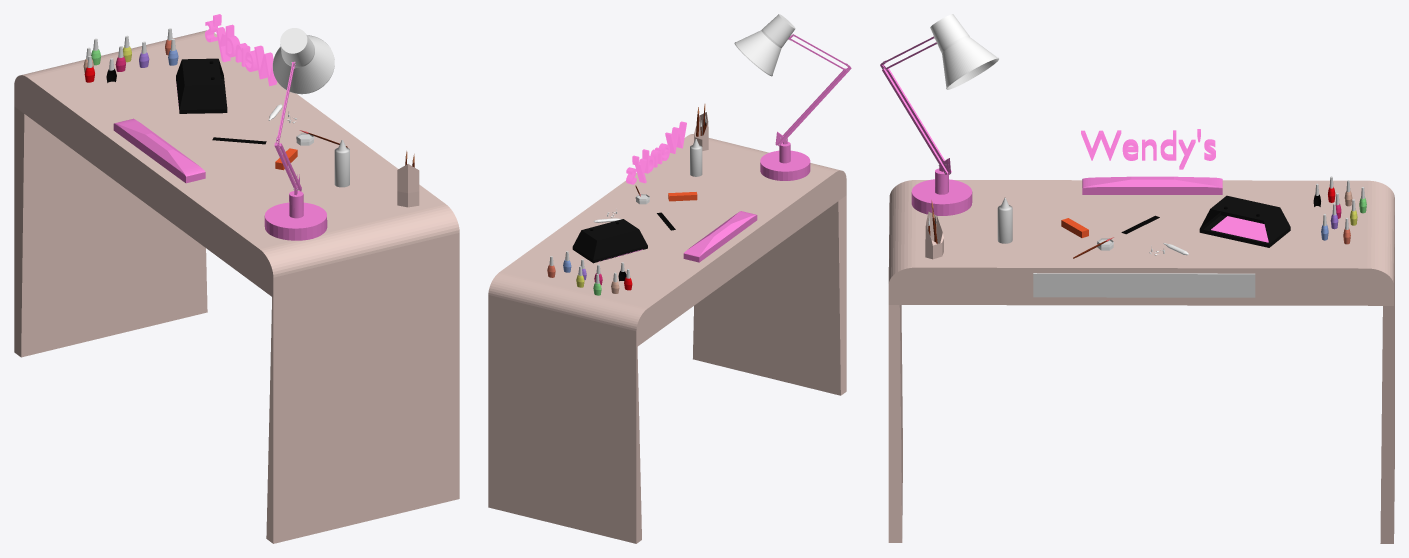
File: wendys.glb
3 renders of one model, left to right at view 1: azimuth 30°, elevation 25°; view 2: azimuth 150°, elevation 25°; view 3: azimuth 270°, elevation 25°, orthographic. The views are drawn at different scales.
Parts seen in each view (by area): view 1: table, Circle, Cube.017, Cube.013, Text, Cylinder, Cylinder.010, Cylinder.018; view 2: table, Cube.017, Circle, Cube.013, Text, Cylinder; view 3: table, Cube.016, Circle, Cube.013, Cube.017, Text, Cylinder, Cube.018, Cylinder.010, Cylinder.018.
Boxes of the visible parts, x1=… form: table: x1=14, y1=30, x2=459, y2=543; Circle: x1=272, y1=28, x2=334, y2=94; Cube.017: x1=176, y1=58, x2=227, y2=113; Cube.013: x1=113, y1=118, x2=205, y2=183; Text: x1=205, y1=14, x2=277, y2=86; Cylinder: x1=264, y1=202, x2=327, y2=240; Cylinder.010: x1=397, y1=164, x2=419, y2=207; Cylinder.018: x1=334, y1=140, x2=349, y2=187; table: x1=488, y1=134, x2=846, y2=543; Cube.017: x1=572, y1=219, x2=647, y2=263; Circle: x1=734, y1=14, x2=795, y2=76; Cube.013: x1=683, y1=211, x2=757, y2=262; Text: x1=626, y1=121, x2=686, y2=184; Cylinder: x1=760, y1=150, x2=810, y2=180; table: x1=888, y1=180, x2=1394, y2=543; Cube.016: x1=1033, y1=273, x2=1255, y2=297; Circle: x1=930, y1=14, x2=998, y2=89; Cube.013: x1=1082, y1=176, x2=1222, y2=194; Cube.017: x1=1199, y1=195, x2=1290, y2=247; Text: x1=1081, y1=129, x2=1215, y2=169; Cylinder: x1=911, y1=179, x2=972, y2=215; Cube.018: x1=1211, y1=216, x2=1268, y2=242; Cylinder.010: x1=925, y1=211, x2=943, y2=259; Cylinder.018: x1=997, y1=197, x2=1012, y2=243.
Size of the model in its own units: 2.7 by 6.5 by 6.53.
